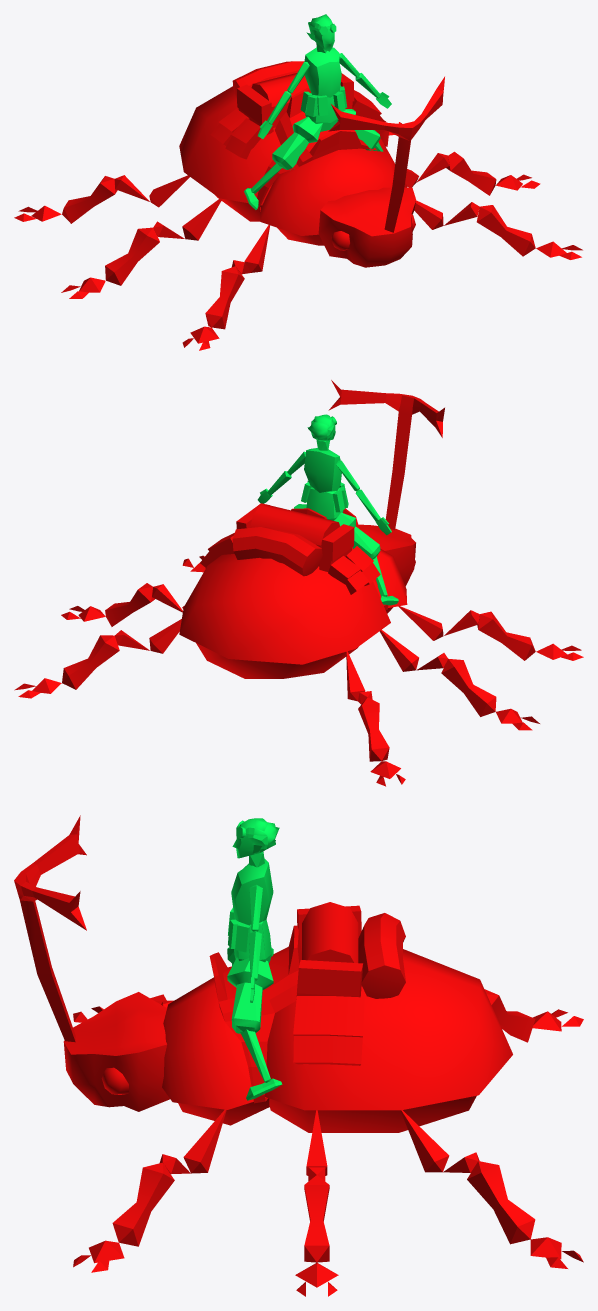
Rendered from SK_Mikro.fbx.
3 renders of one model, top to bottom at view 1: azimuth 30°, elevation 25°; view 2: azimuth 150°, elevation 25°; view 3: azimuth 270°, elevation 25°, orthographic. The views are drawn at different scales.
Parts seen in each view (by area): view 1: MIKRO; view 2: MIKRO; view 3: MIKRO.
Part boxes in pixels (x1,y1,x2,y2): MIKRO: [14, 14, 582, 350]; MIKRO: [14, 380, 583, 786]; MIKRO: [14, 815, 583, 1296].
Size of the model in its own units: 414 by 319 by 200.
